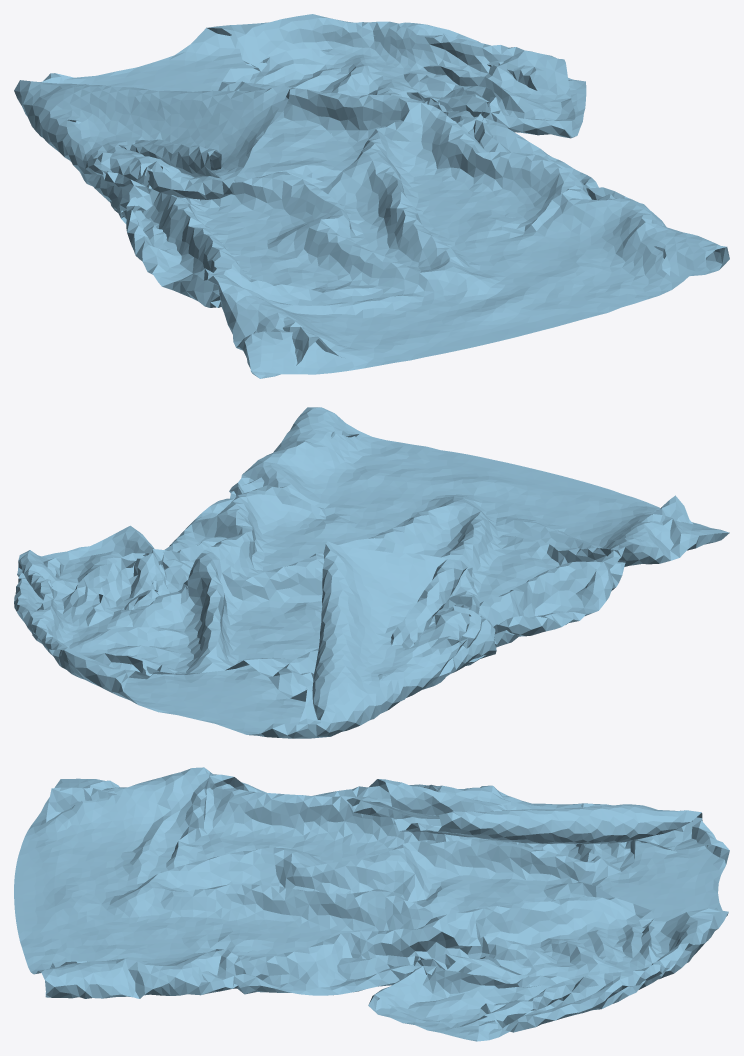
File: frame_19.glb
The picture shows the model from 3 angles, top to bottom: view 1: azimuth 30°, elevation 25°; view 2: azimuth 150°, elevation 25°; view 3: azimuth 270°, elevation 25°; orthographic projection. The views are drawn at different scales.
Visible parts, largest first — view 1: frame_19.obj; view 2: frame_19.obj; view 3: frame_19.obj.
Part boxes in pixels (<box>): frame_19.obj: <box>14,14,729,378</box>; frame_19.obj: <box>14,407,729,738</box>; frame_19.obj: <box>14,767,729,1041</box>.
Size of the model in its own units: 1.47 by 0.2348 by 1.73.
